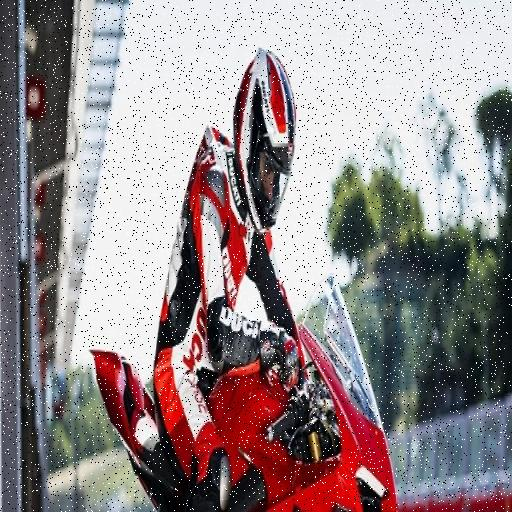Helmet: (204, 42, 332, 234)
Motor: (83, 331, 421, 512)
